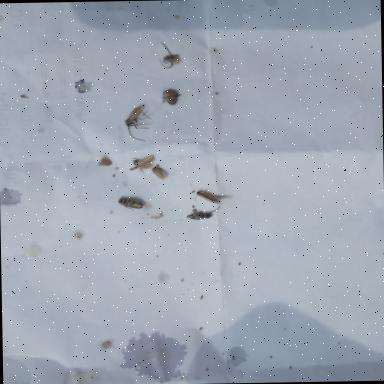pbw: (124, 105, 154, 142), (194, 190, 236, 206), (128, 156, 156, 176), (114, 198, 143, 212), (150, 168, 166, 182)
